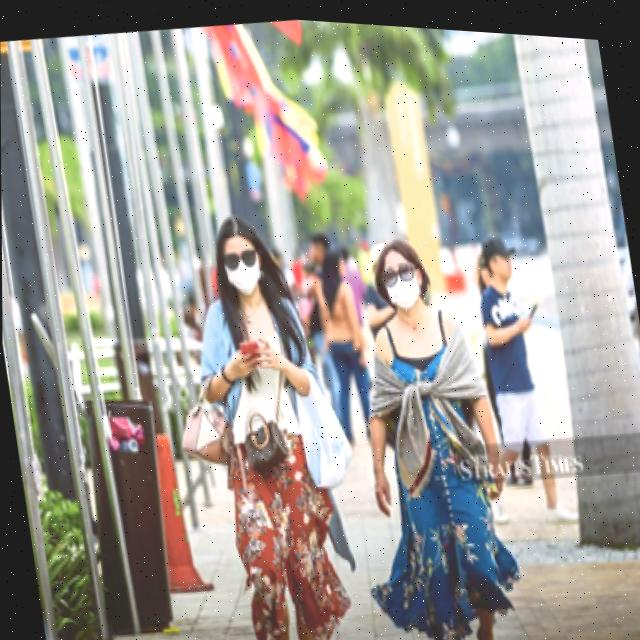Mask: (381, 269, 424, 309), (223, 259, 266, 295)
